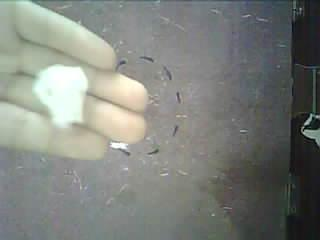paper: (35, 66, 88, 127)
